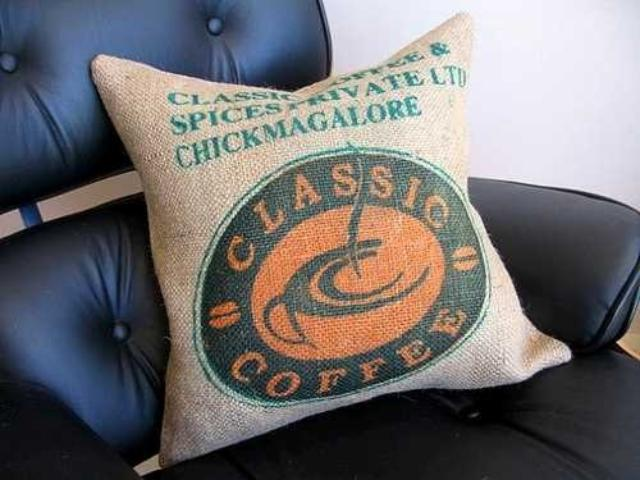pillow: (89, 10, 574, 472)
